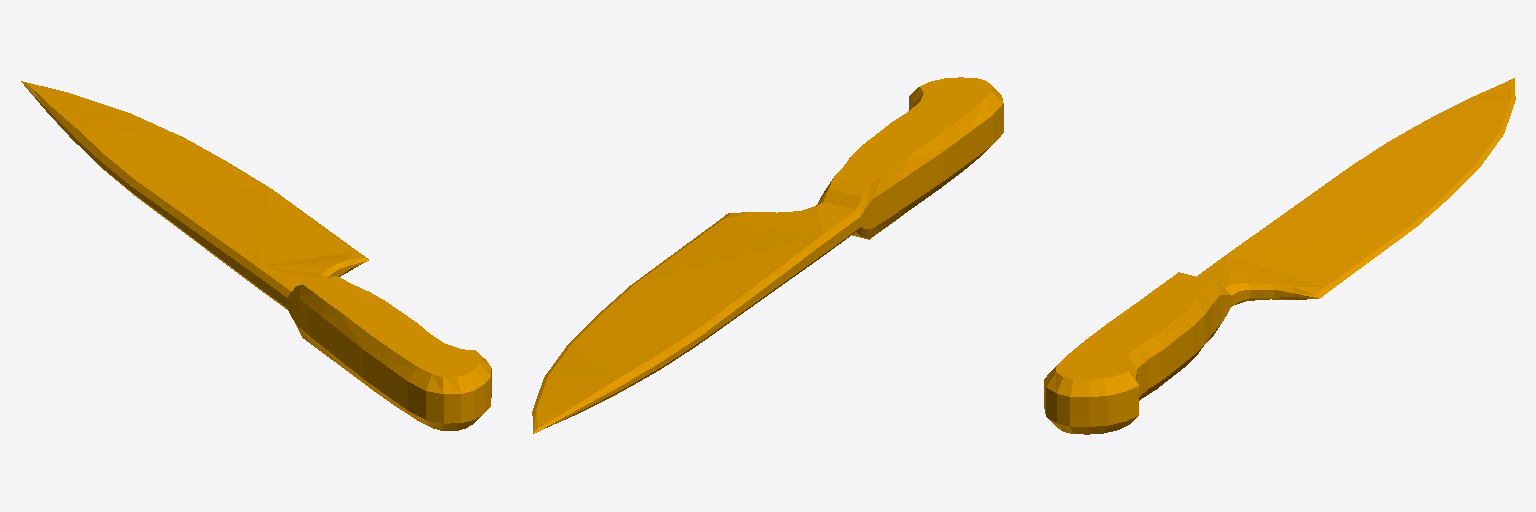
The robot description file, URDF, robot "object":
<?xml version="1.0"?>
<robot name="object">
  <link name="object">
    <visual>
      <origin xyz="0.0 0.0 0.0"/>
      <geometry>
        <mesh filename="knife.stl" scale="1.00 1.00 1.00"/>
      </geometry>
    </visual>
    <collision>
      <origin xyz="0.0 0.0 0.0"/>
      <geometry>
        <mesh filename="knife.stl" scale="1.00 1.00 1.00"/>
      </geometry>
    </collision>
  </link>
</robot>
    
                    

--- What the picture shows (computed from the rendered views, not written in the file) ---
The picture shows the robot from 3 angles, left to right: view 1: azimuth 30°, elevation 25°; view 2: azimuth 150°, elevation 25°; view 3: azimuth 330°, elevation 25°; orthographic projection.
Robot: object — 1 links, 0 joints (none); root link object; default pose: all joints at 0.
Links seen in each view (by area): view 1: object; view 2: object; view 3: object.
Link boxes in pixels (<box>): object: <box>21,81,491,430</box>; object: <box>532,77,1003,433</box>; object: <box>1044,78,1515,434</box>.
Size in the robot's own frame: 0.0321 by 0.222 by 0.0148 metres.
Meshes: 1 distinct files referenced, 1 mesh visuals loaded (1 binary STL).
